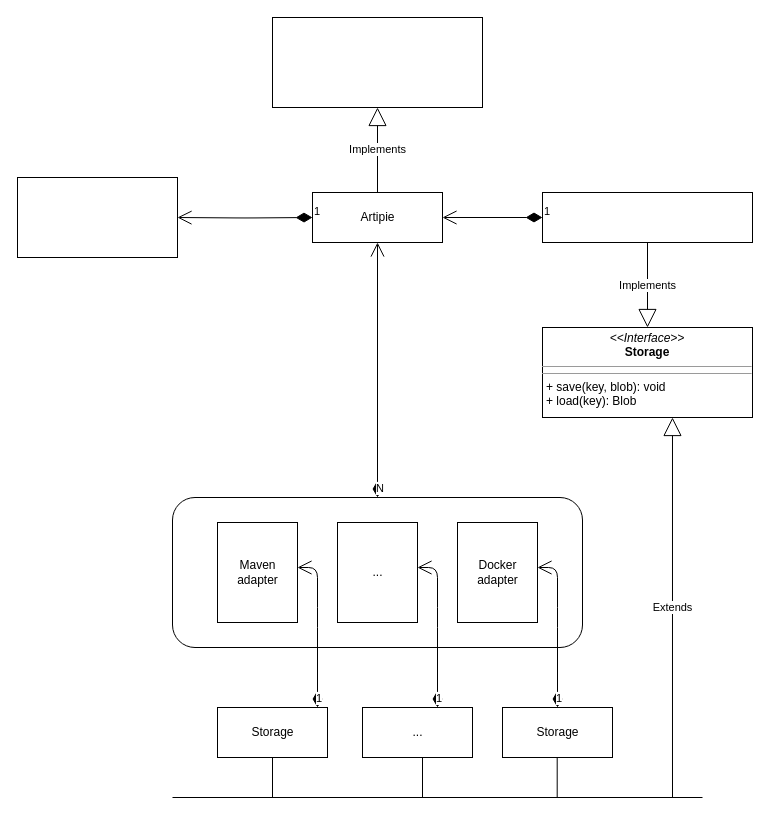
The diagram is 770 pixels wide and 833 high, and some of its shapes have lost their labels. The shapes that lost their labels are listed below. From the top down, each one's centre as x and y in pixels, then its label:
point 377,62: <<Interface>> Slice + response(request): Response
point 97,217: Web HTTP server
point 647,217: Settings storage
